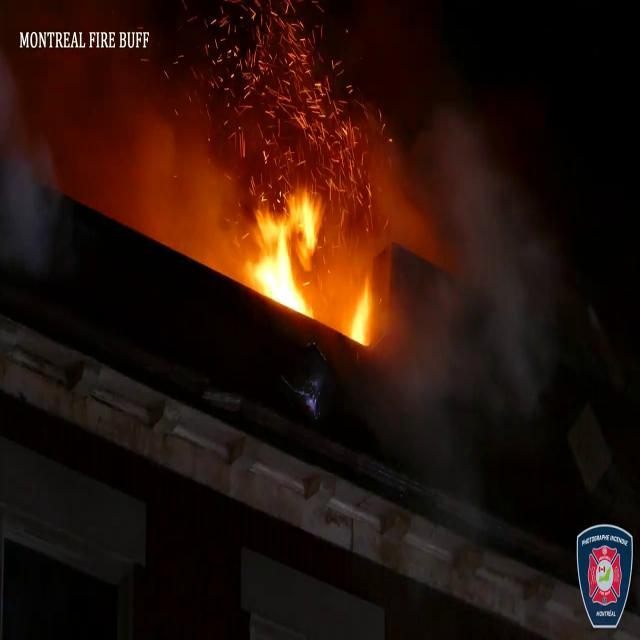Fire: (244, 188, 322, 322), (345, 268, 377, 352)
Smoke: (331, 57, 566, 414), (0, 0, 246, 250)
